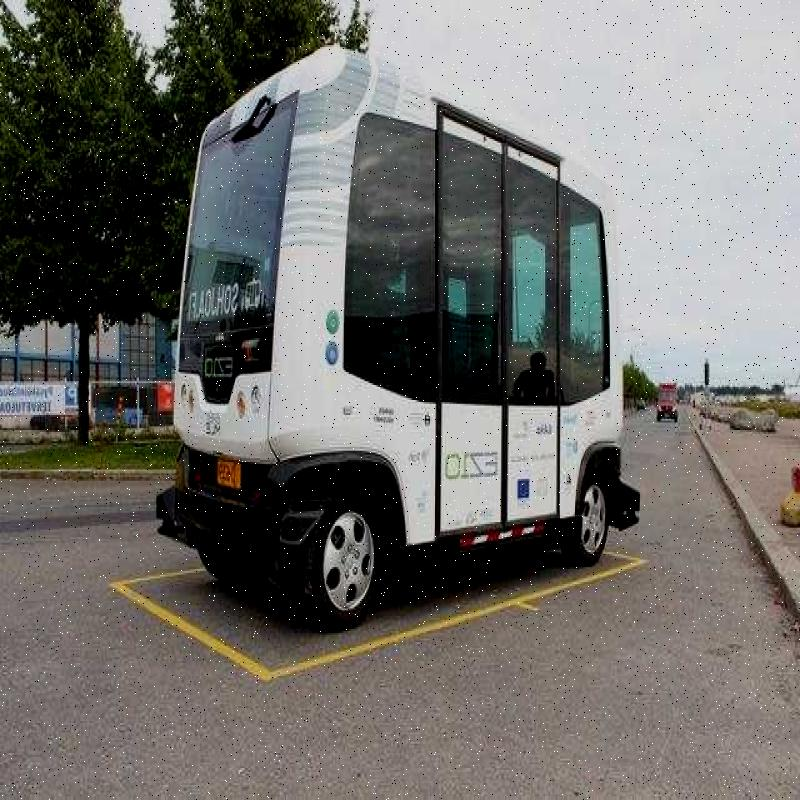bus: (136, 52, 619, 662)
